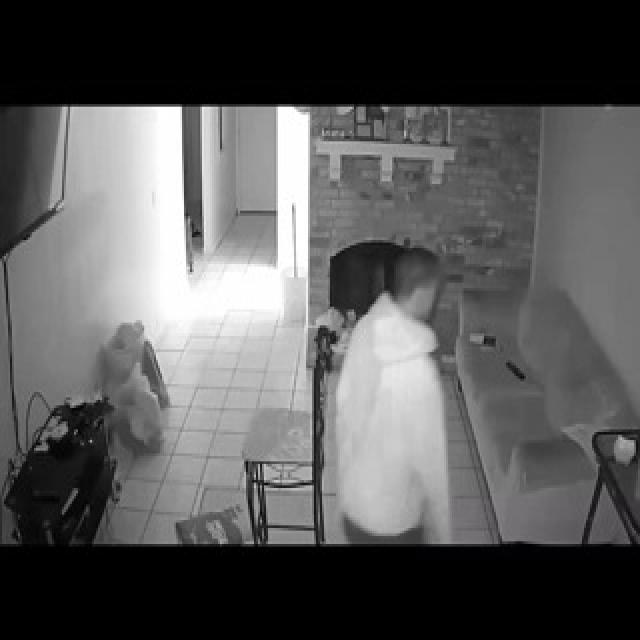thief: (344, 210, 469, 402)
